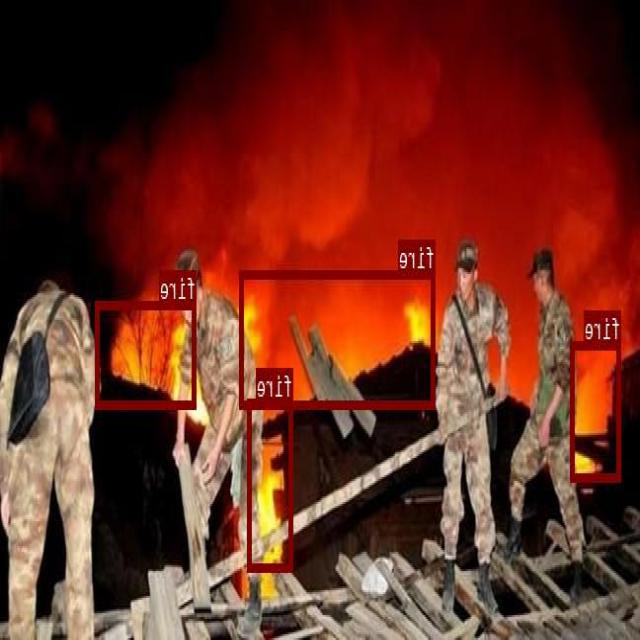fire: (240, 269, 437, 406), (96, 299, 197, 407), (248, 398, 294, 570), (572, 341, 622, 481)
